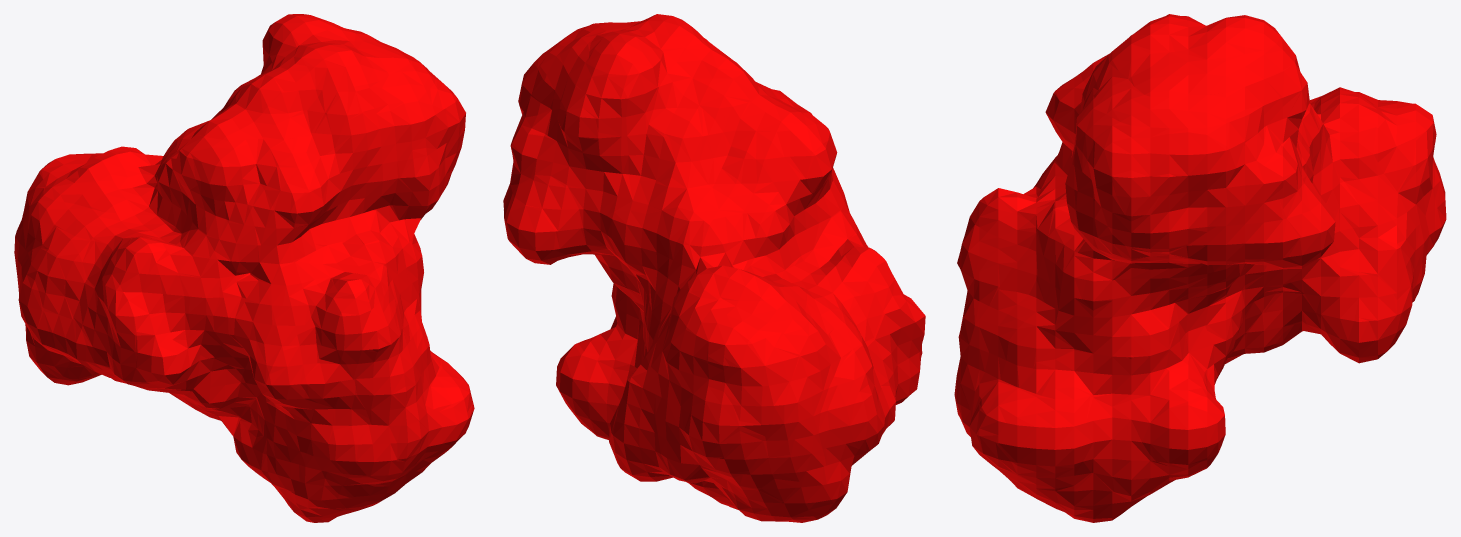
The model's file is pyrB_coarse.dae.
3 views of the same model, side by side, from view 1: azimuth 30°, elevation 25°; view 2: azimuth 150°, elevation 25°; view 3: azimuth 270°, elevation 25° (orthographic). The views are drawn at different scales.
Parts seen in each view (by area): view 1: pyrB; view 2: pyrB; view 3: pyrB.
Part boxes in pixels (x1,y1,x2,y2): pyrB: (14, 14, 474, 522); pyrB: (503, 14, 925, 522); pyrB: (954, 14, 1446, 522).
Bounding box in the file's own units: 80.5 × 94.98 × 81.97.
